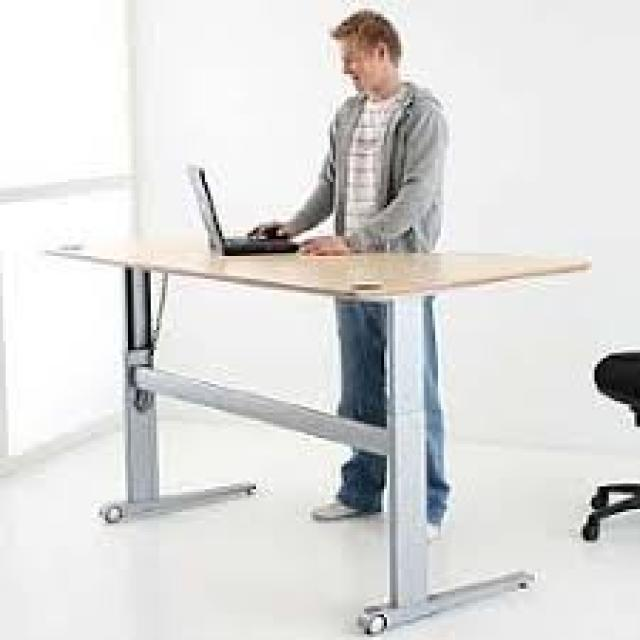nonfall: (293, 9, 477, 556)
